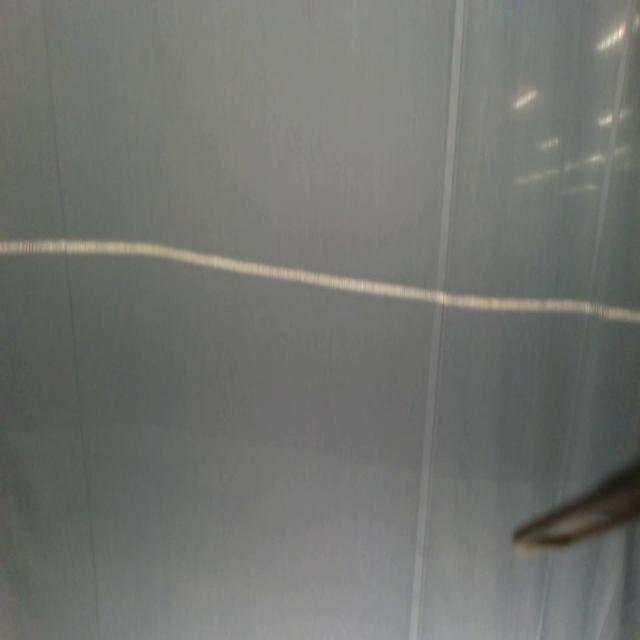color bleeding: (0, 311, 584, 493)
crease: (40, 9, 100, 640), (409, 0, 467, 639), (563, 0, 637, 465), (536, 551, 553, 640)
